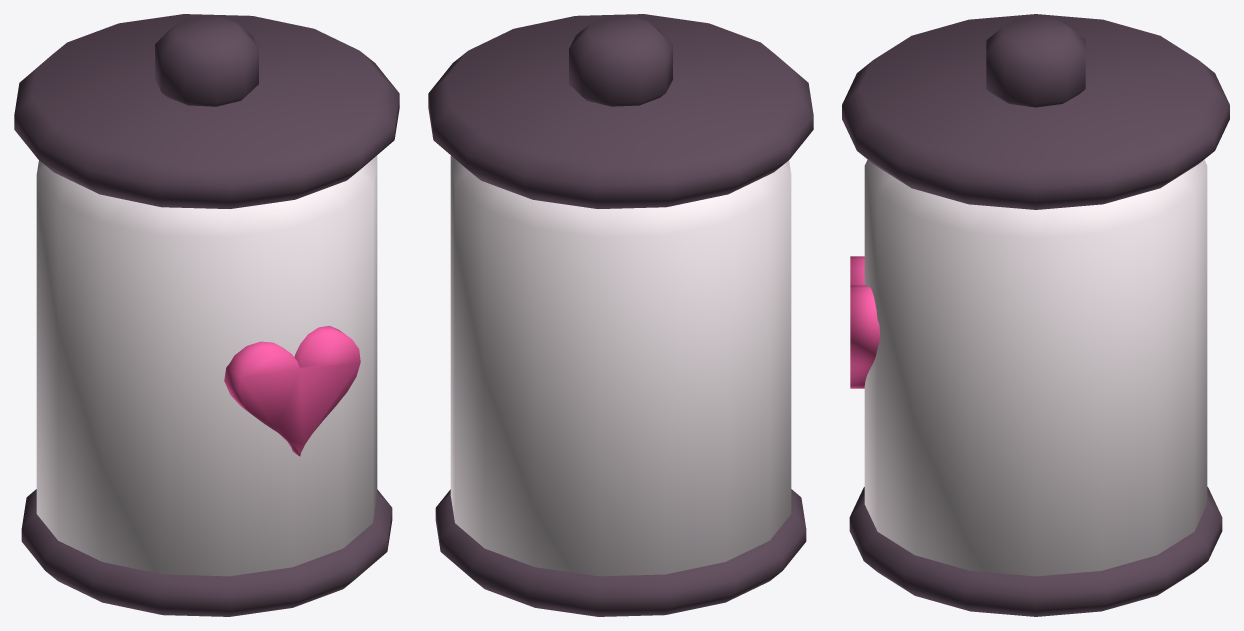
Rendered from trashcan.obj.
3 views of the same model, side by side, from view 1: azimuth 30°, elevation 25°; view 2: azimuth 150°, elevation 25°; view 3: azimuth 270°, elevation 25° (orthographic).
Visible parts, largest first — view 1: Body, Hardware, Accent; view 2: Body, Hardware; view 3: Body, Hardware, Accent.
Part boxes in pixels (x1,y1,x2,y2): Body: (36,156,377,576); Hardware: (14,14,399,616); Accent: (224,325,360,456); Body: (450,156,791,576); Hardware: (428,14,813,616); Body: (864,159,1207,576); Hardware: (842,14,1229,616); Accent: (850,256,880,388).
Size of the model in its own units: 2.6 by 3.8 by 2.6.
